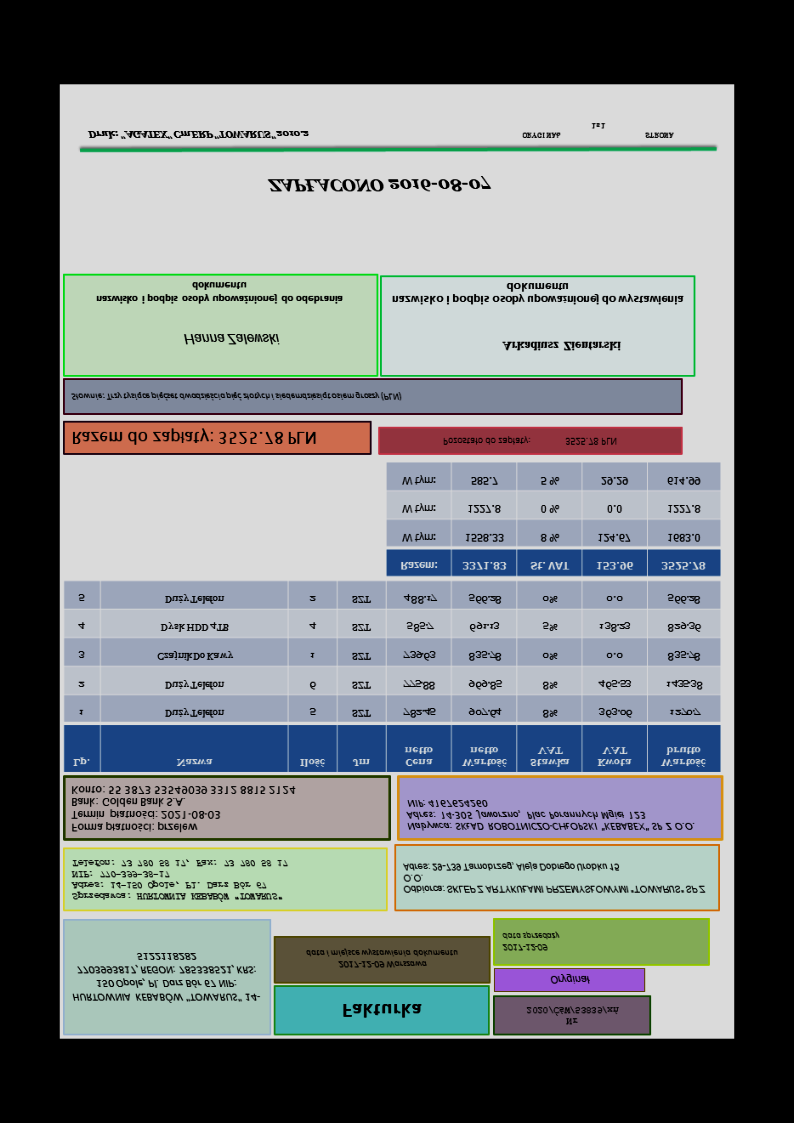Table: (62, 579, 723, 774), (384, 463, 722, 579)
TextBox: (399, 857, 708, 899), (402, 794, 698, 836), (67, 784, 298, 835), (67, 855, 291, 906), (70, 947, 263, 1006), (388, 281, 688, 311), (92, 278, 348, 309), (66, 427, 319, 453), (265, 172, 495, 199), (66, 389, 405, 406), (301, 946, 461, 974), (84, 124, 315, 143), (519, 118, 676, 143), (438, 433, 622, 451), (524, 1003, 623, 1029), (179, 328, 281, 353), (500, 335, 625, 355), (337, 1001, 424, 1023), (499, 927, 562, 955), (547, 972, 593, 989)
